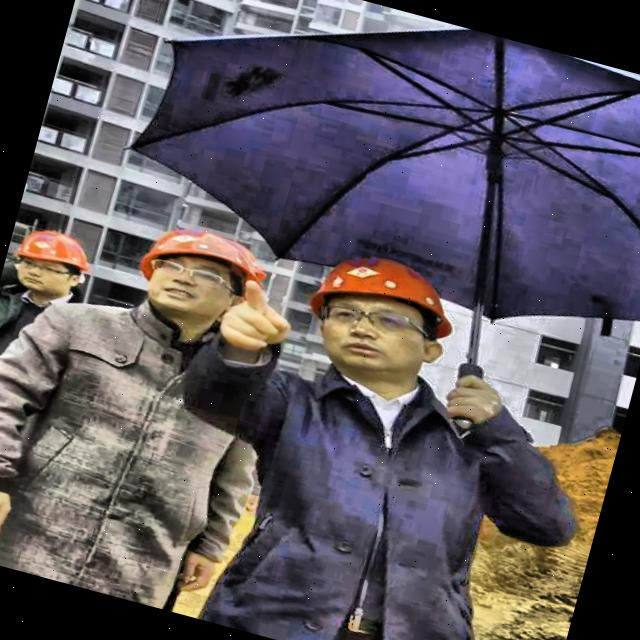helmet: (290, 240, 468, 398), (121, 212, 286, 352), (2, 217, 104, 310)
